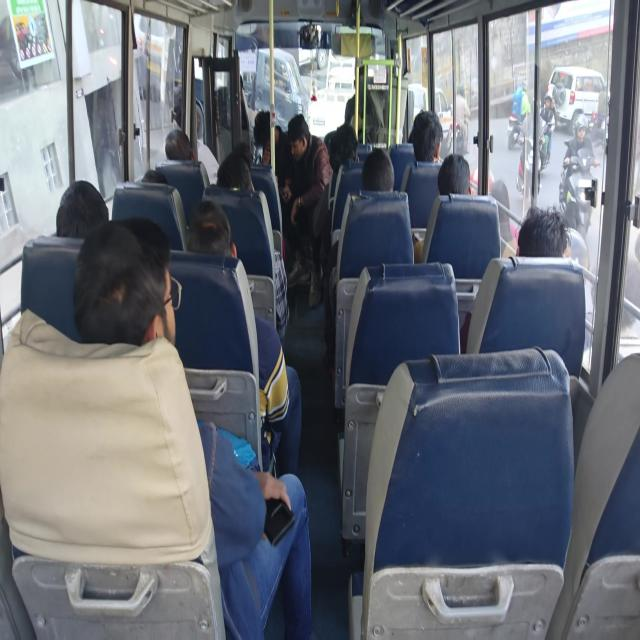person: (90, 236, 188, 344), (510, 209, 572, 272), (181, 202, 234, 265), (53, 177, 103, 225), (122, 156, 182, 194), (211, 143, 248, 194), (326, 128, 364, 176), (438, 162, 477, 208), (358, 153, 393, 203), (409, 117, 437, 165), (221, 65, 250, 111), (153, 130, 194, 160), (252, 114, 280, 151), (352, 65, 376, 106), (284, 120, 311, 148)
